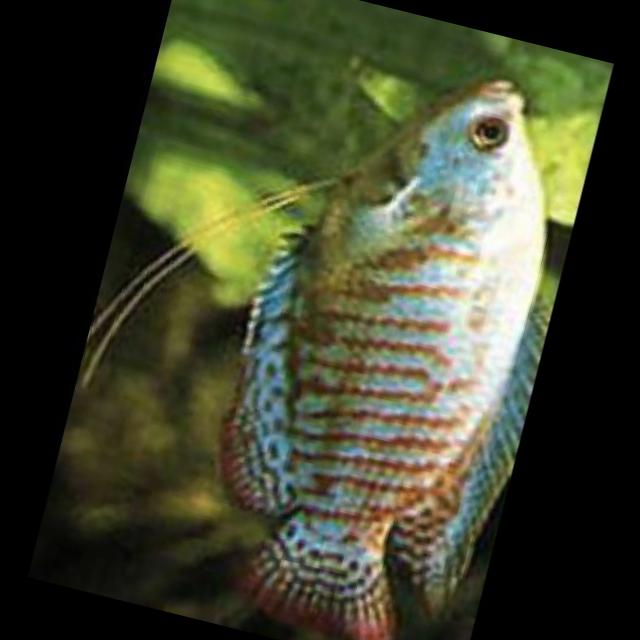Gourami: (179, 31, 604, 640)
